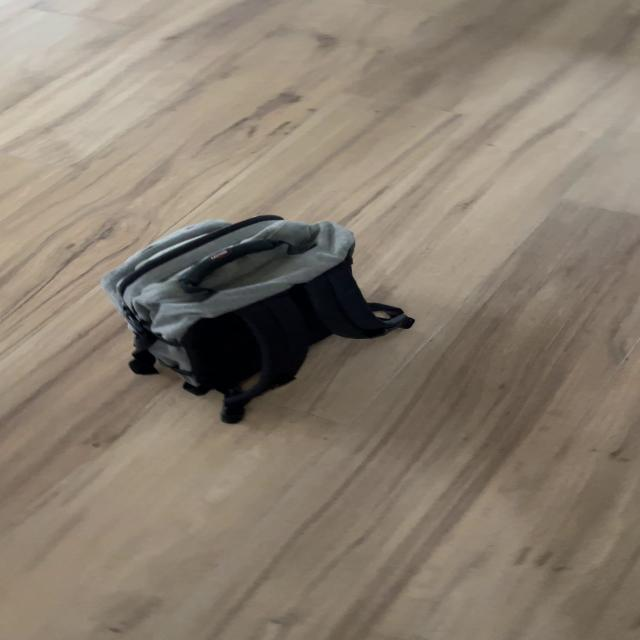backpack: (92, 204, 399, 418)
